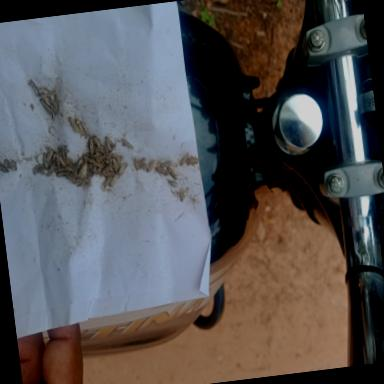pbw: (107, 168, 121, 188), (85, 153, 101, 168), (100, 175, 112, 193), (133, 156, 148, 170), (40, 96, 51, 114), (78, 161, 89, 179), (44, 162, 56, 178), (114, 162, 129, 174), (68, 116, 78, 134), (179, 150, 190, 166), (4, 158, 16, 172), (29, 80, 38, 98), (80, 120, 90, 136), (74, 118, 82, 136), (156, 164, 168, 176), (72, 162, 81, 178), (166, 166, 176, 180), (146, 158, 156, 172), (106, 133, 114, 150), (102, 164, 113, 176), (88, 137, 96, 153), (178, 186, 186, 202), (0, 161, 9, 175), (93, 134, 102, 148), (124, 139, 134, 151), (54, 152, 60, 172), (187, 155, 199, 165), (64, 172, 76, 182), (46, 149, 56, 161), (80, 181, 91, 191), (112, 156, 119, 170), (38, 87, 50, 95), (53, 98, 59, 114), (98, 150, 105, 162), (59, 156, 66, 168), (47, 92, 55, 102), (62, 164, 72, 172), (104, 144, 110, 156), (57, 171, 67, 177), (92, 168, 101, 174), (104, 158, 110, 166)
